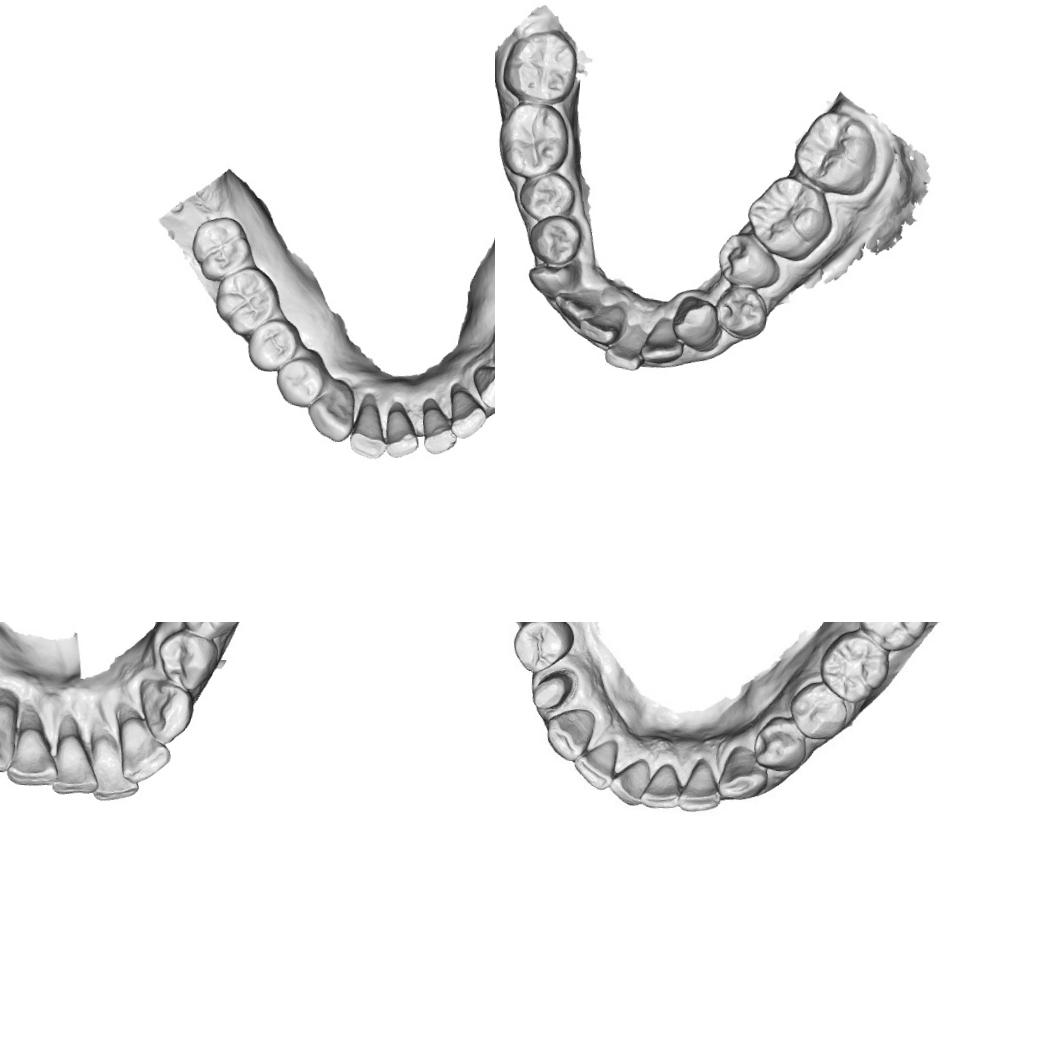canine: (130, 676, 196, 746), (536, 704, 598, 766), (303, 376, 358, 444), (668, 292, 724, 354), (718, 746, 767, 800), (525, 260, 581, 300), (0, 698, 19, 773), (468, 361, 495, 412)
crown: (530, 671, 568, 712)
incisor: (113, 716, 173, 786), (89, 734, 143, 802), (5, 727, 60, 790), (49, 734, 101, 798), (444, 382, 490, 442), (575, 298, 627, 351), (638, 313, 688, 366), (602, 318, 648, 372), (346, 402, 388, 461), (416, 403, 460, 457), (551, 284, 604, 326), (382, 404, 421, 461), (575, 739, 622, 786), (682, 756, 718, 812), (644, 762, 686, 810), (614, 757, 658, 802)
molar: (742, 171, 838, 265), (788, 105, 881, 198), (497, 24, 581, 107), (495, 98, 573, 181), (210, 262, 284, 342), (186, 212, 256, 286), (824, 636, 886, 697), (861, 622, 924, 646)
premolar: (714, 230, 784, 292), (154, 630, 218, 694), (750, 714, 810, 780), (244, 314, 304, 376), (788, 677, 846, 740), (514, 169, 578, 223), (507, 622, 571, 675), (270, 354, 329, 411), (526, 212, 584, 269), (712, 283, 769, 341), (175, 622, 243, 639)
